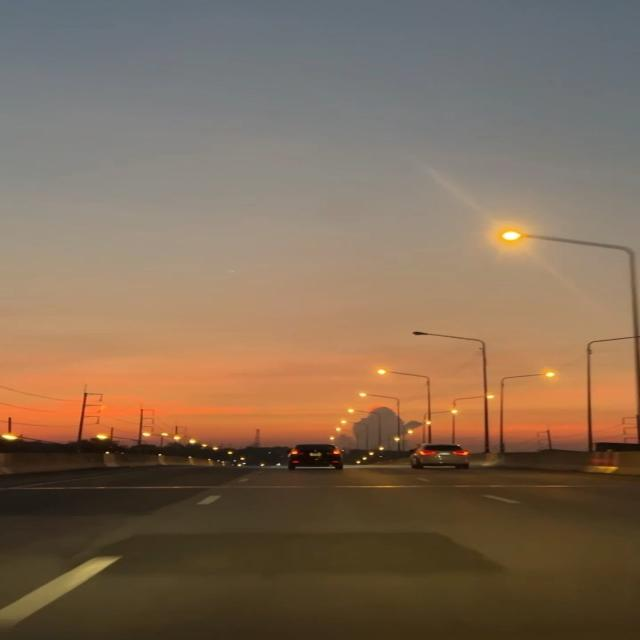Poth-hole: (139, 456, 528, 629)
